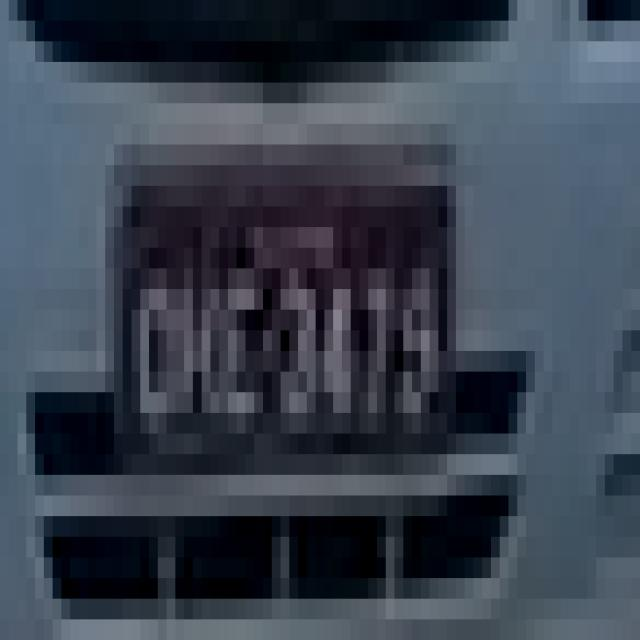Placa_mercosul_carro: (117, 180, 452, 446)
